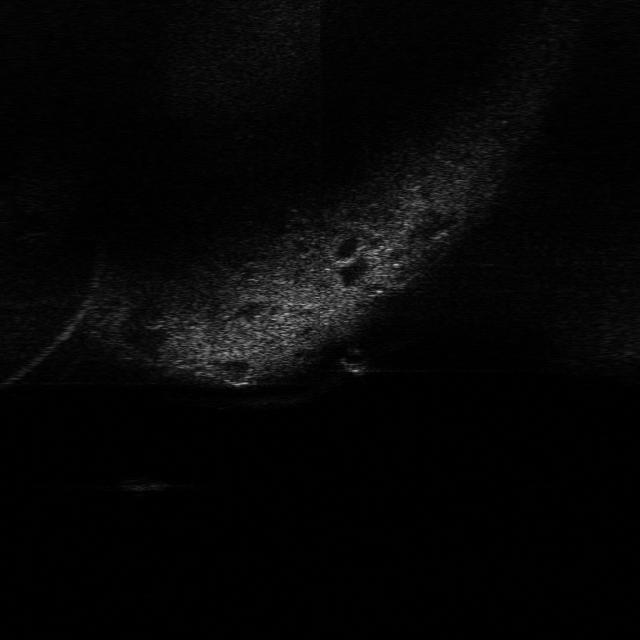ball: (333, 346, 378, 378)
cube: (117, 470, 173, 498)
